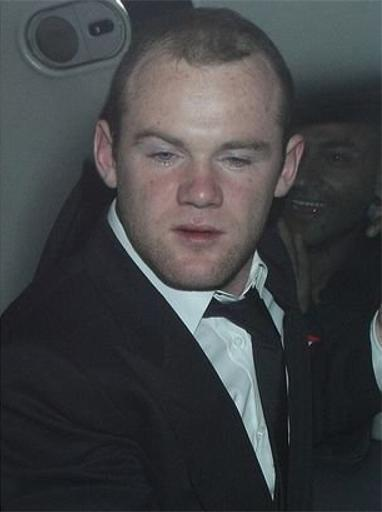Drunk: (132, 62, 276, 283)
